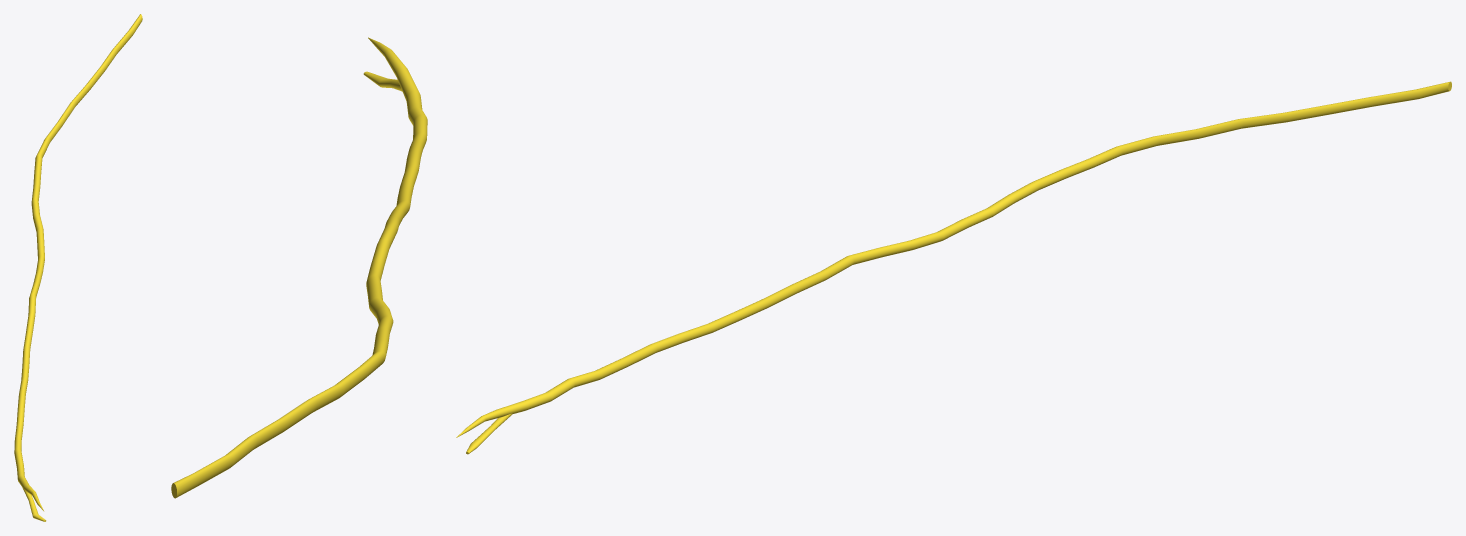
File: abducens.FBX
3 renders of one model, left to right at view 1: azimuth 30°, elevation 25°; view 2: azimuth 210°, elevation 25°; view 3: azimuth 330°, elevation 25°, orthographic. The views are drawn at different scales.
Parts seen in each view (by area): view 1: nAbducens; view 2: nAbducens; view 3: nAbducens.
Boxes of the visible parts, left/top/right/bottom form: nAbducens: left=14, top=14, right=142, bottom=521; nAbducens: left=171, top=37, right=427, bottom=498; nAbducens: left=456, top=81, right=1451, bottom=454.
Size of the model in its own units: 0.4872 by 0.1614 by 0.6611.
